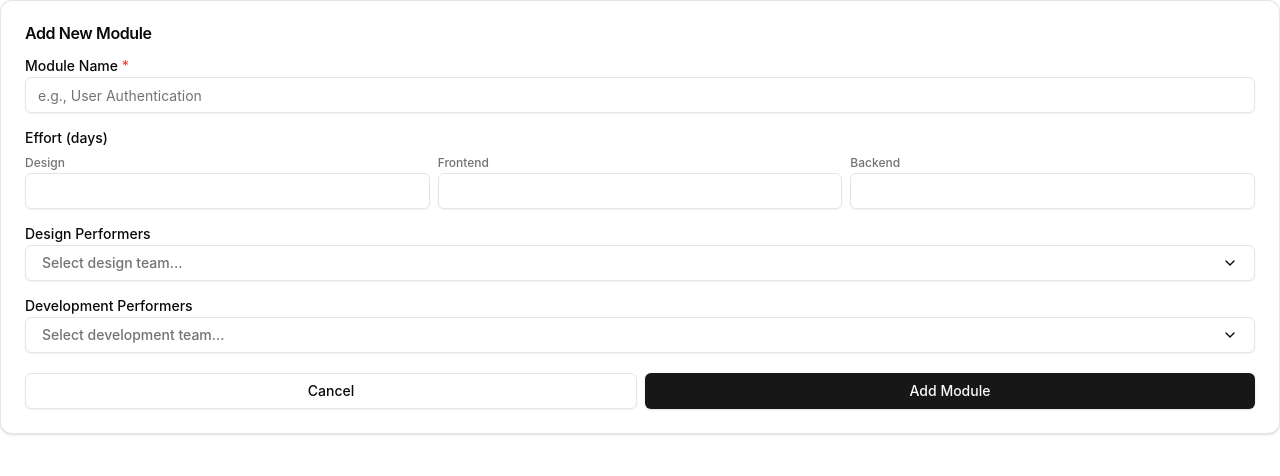
AddModuleForm › Validation › should show error when all effort days are zero
This screenshot has width=1280, height=476.
In the field with placeholder "e.g., User Authentication": (640, 95) [25,77,1255,113], type "Test Module"
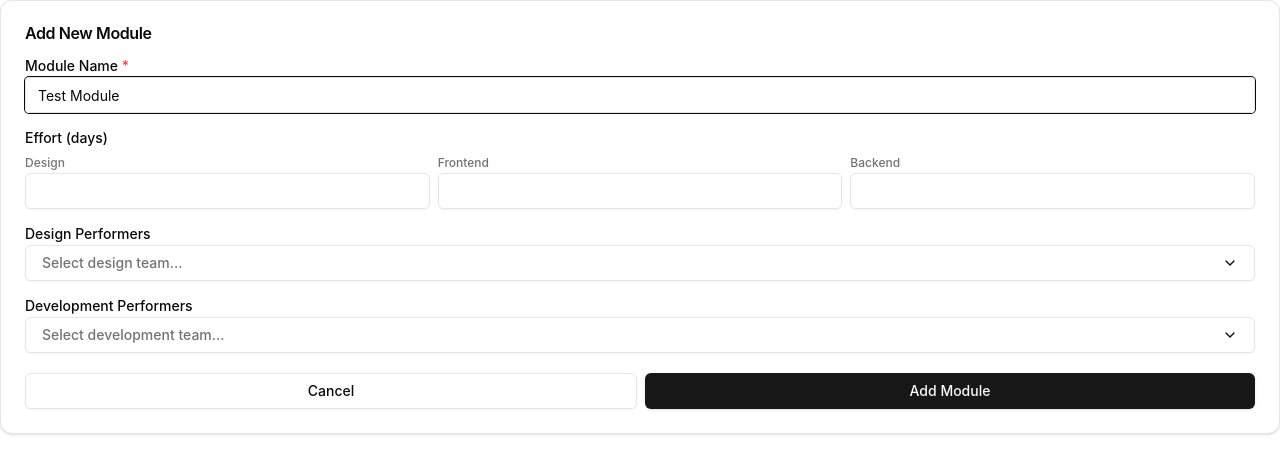
Leave all effort fields empty (which converts to 0)
Click the button "Add Module": (950, 391) [645,373,1255,409]
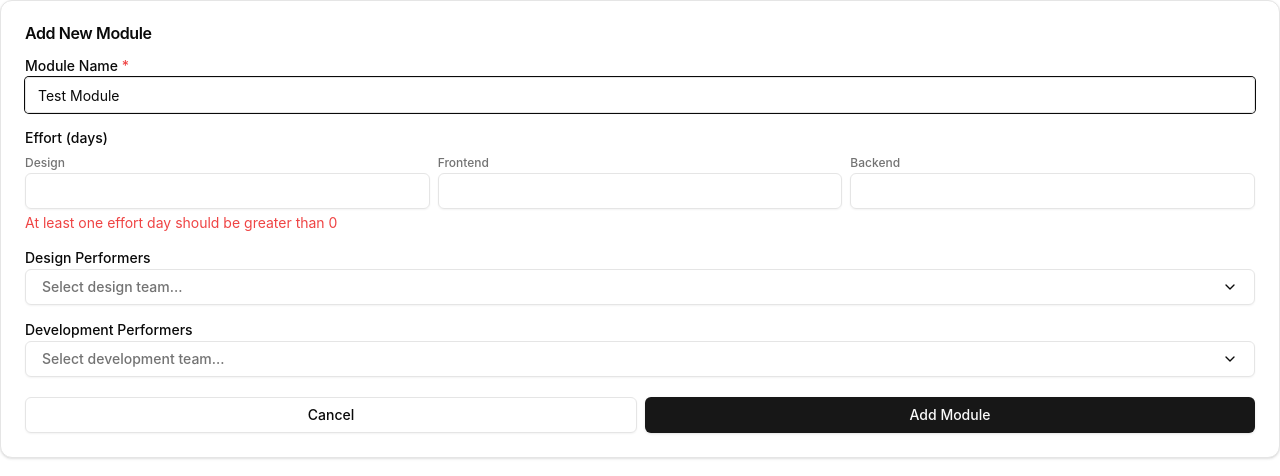
Expected: the text "At least one effort day should be greater than 0" is shown, [25,214,337,231]
